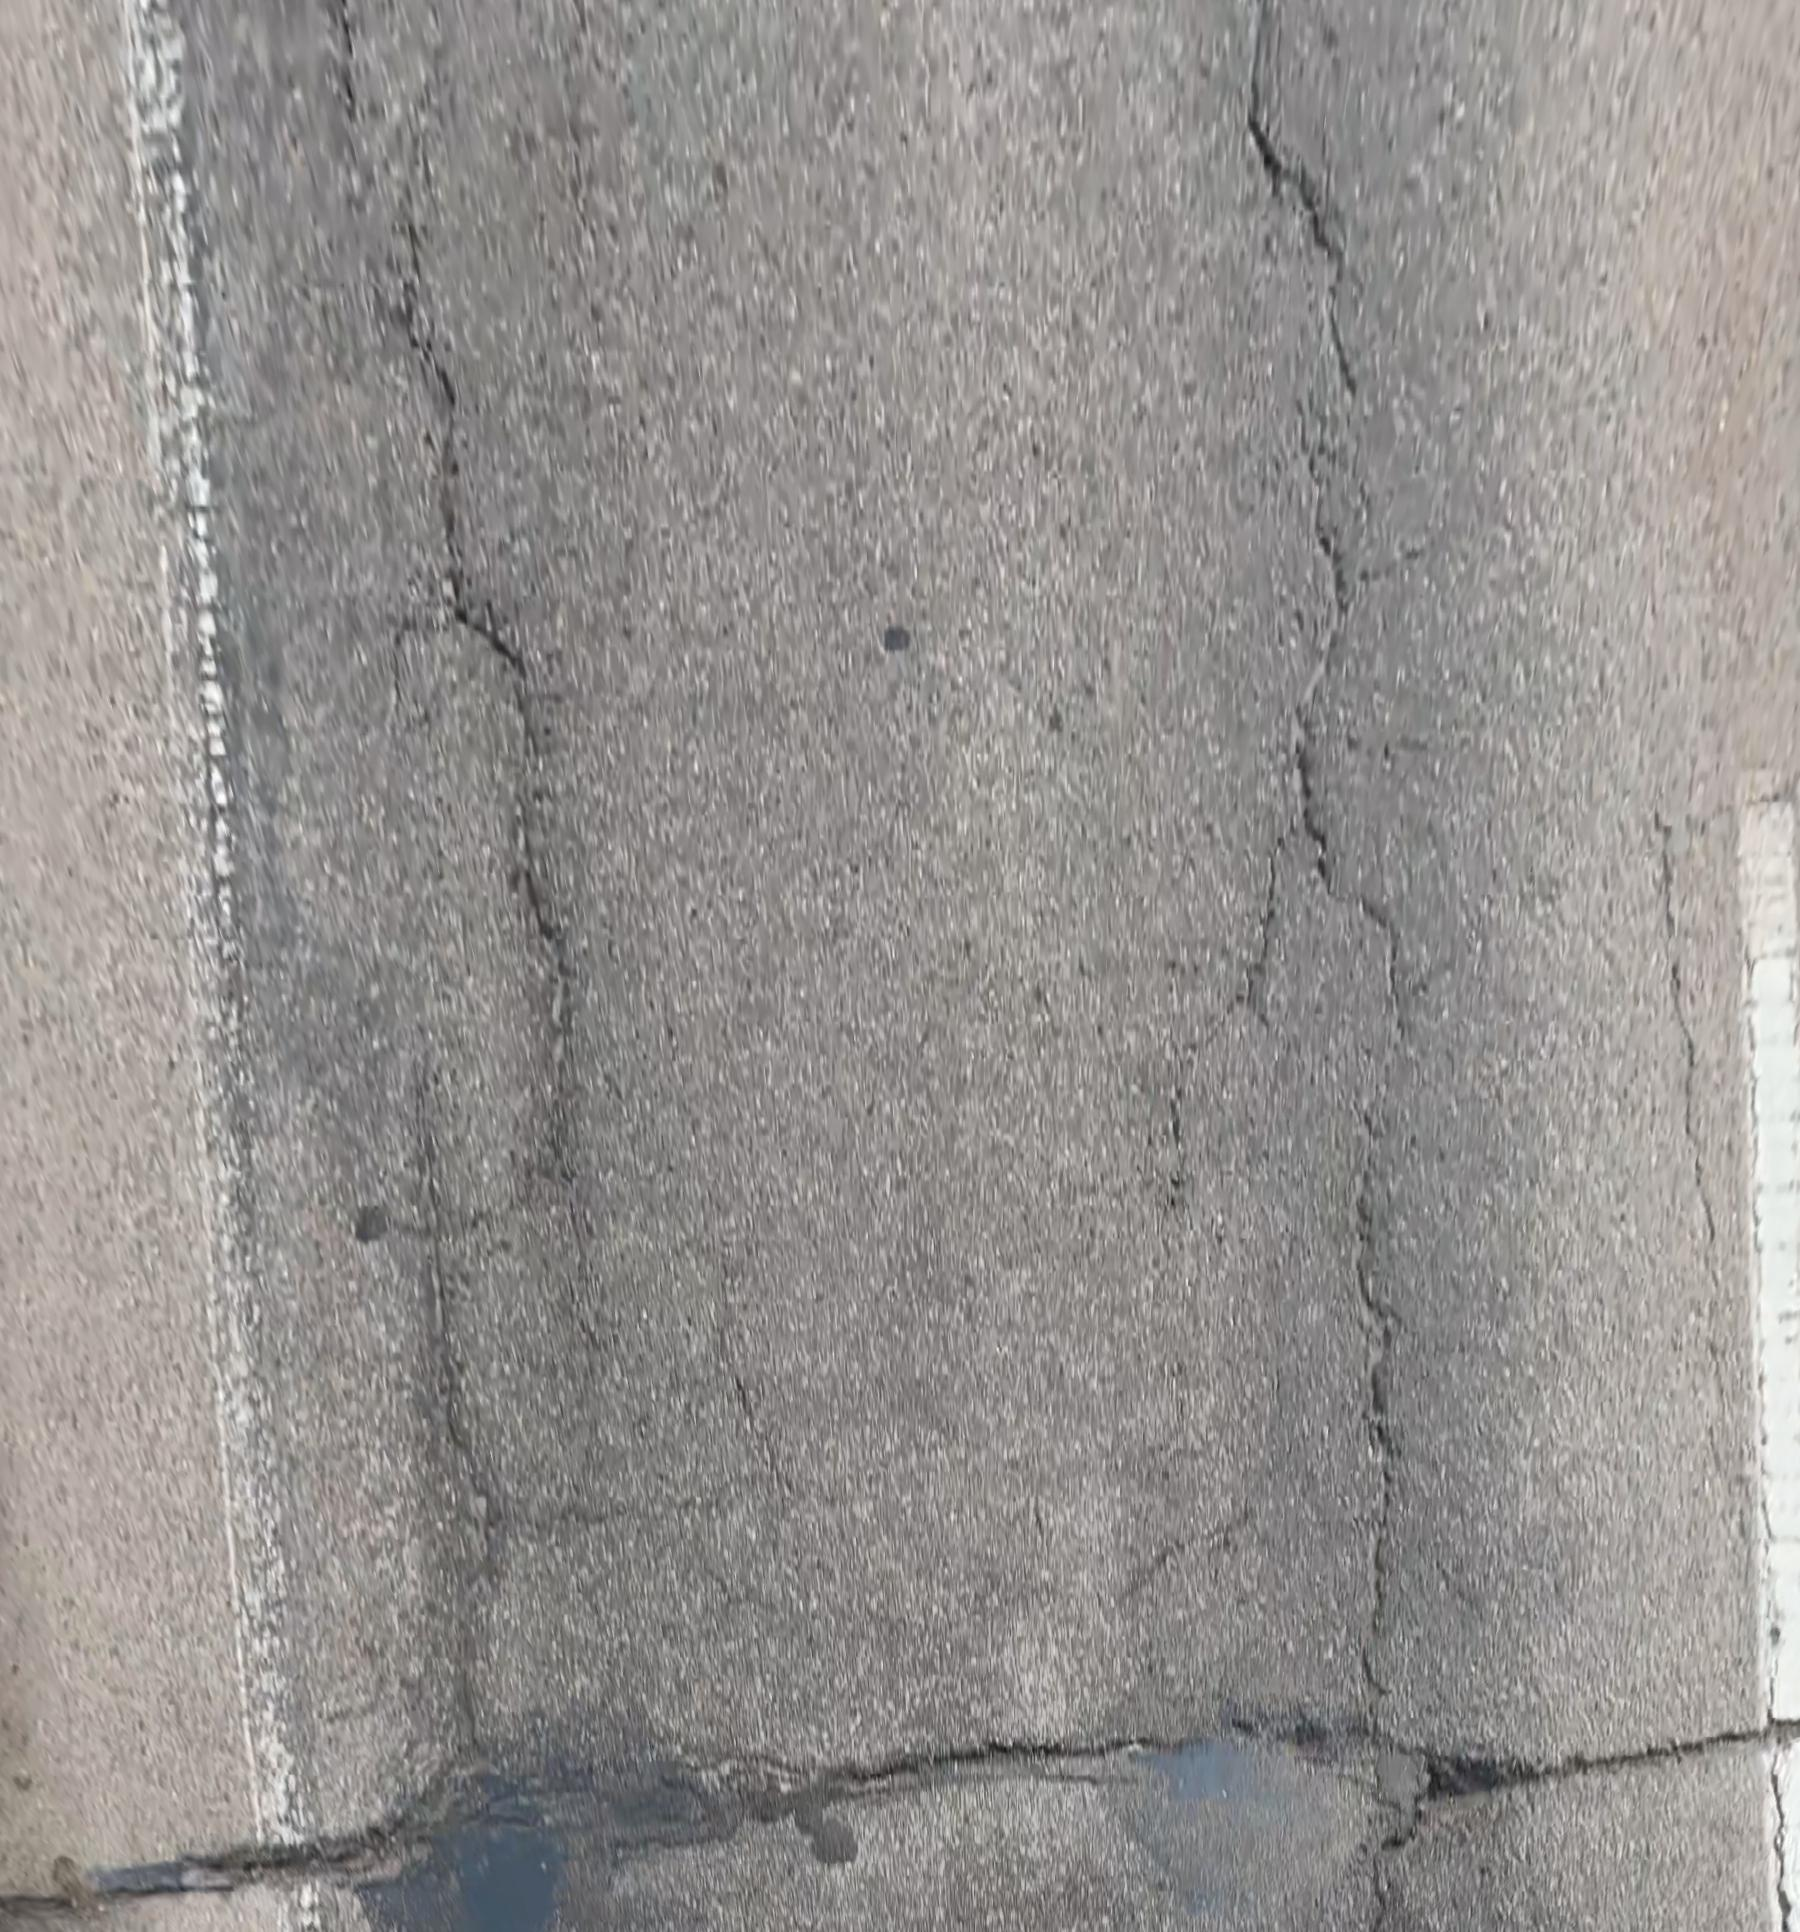pothole_patch_poor: (218, 1773, 753, 1932), (1128, 1737, 1519, 1932)
